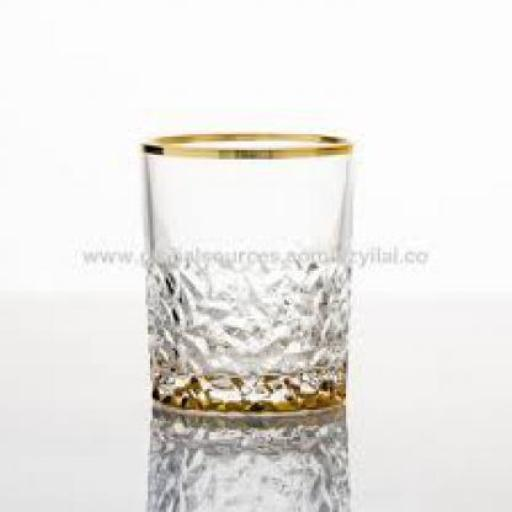glass: (141, 132, 350, 412)
